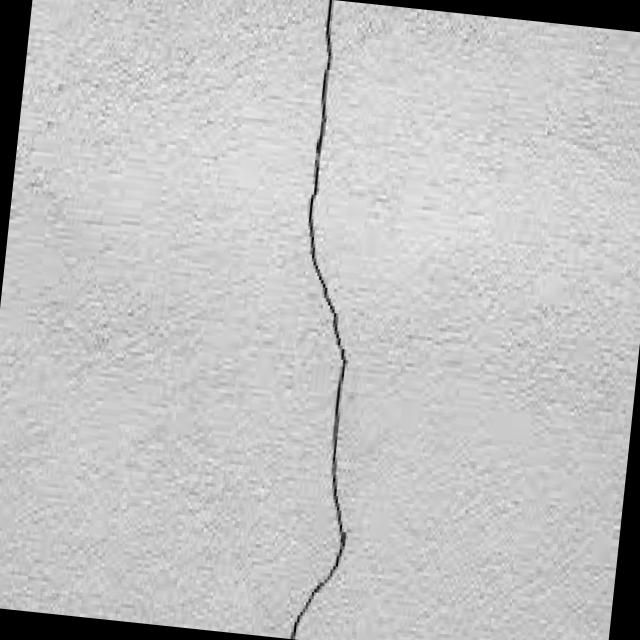crack: (258, 0, 403, 640)
